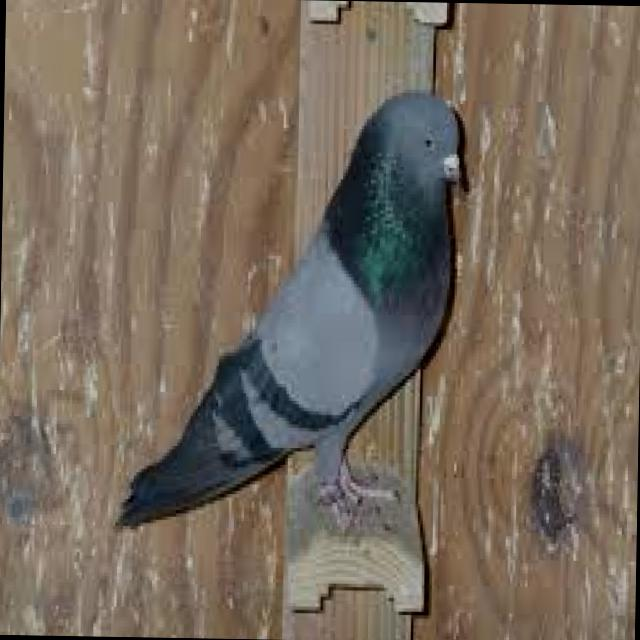bird: (110, 76, 476, 542)
